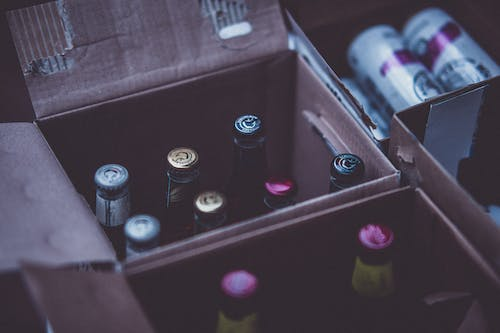alcohol: (343, 21, 446, 129), (399, 5, 500, 92), (348, 221, 400, 333), (232, 113, 268, 224), (338, 76, 399, 141), (92, 161, 131, 262), (164, 147, 200, 245), (211, 268, 262, 333), (193, 190, 229, 238), (125, 213, 163, 257), (328, 152, 366, 195), (261, 174, 299, 216)
